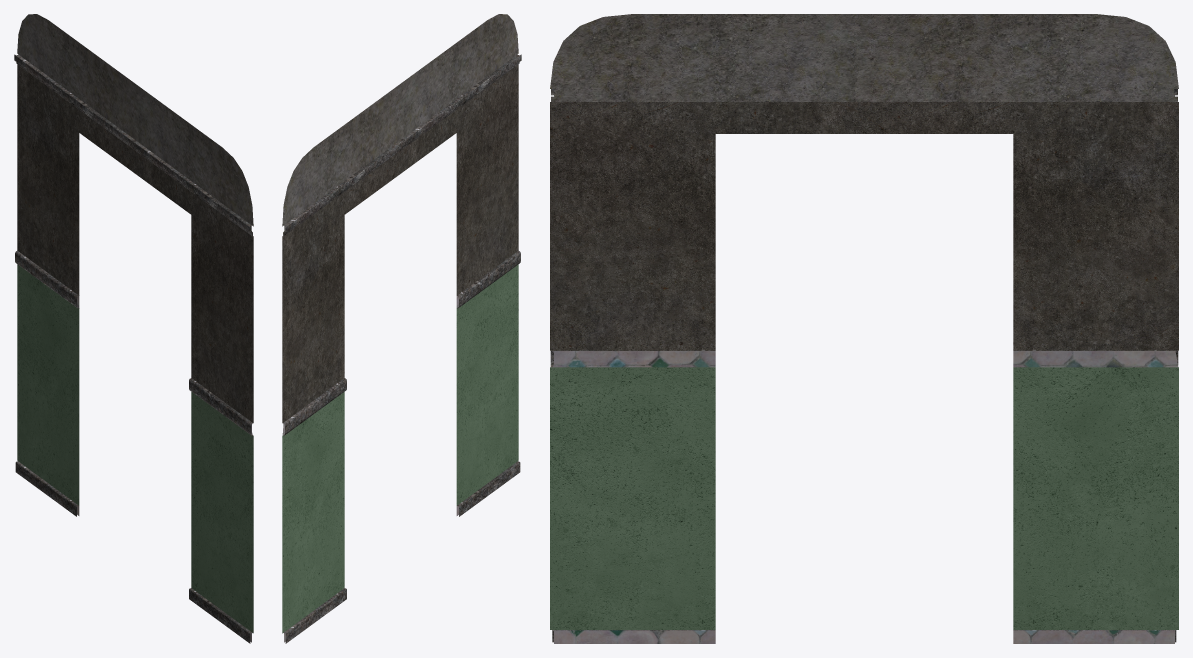
The model's file is CorridorBlockEntranceWall.FBX.
3 views of the same model, side by side, from view 1: azimuth 30°, elevation 25°; view 2: azimuth 150°, elevation 25°; view 3: azimuth 270°, elevation 25° (orthographic). The views are drawn at different scales.
Visible parts, largest first — view 1: Entrance_Wall; view 2: Entrance_Wall; view 3: Entrance_Wall.
Boxes of the visible parts, x1,y1,x2,y2 form: Entrance_Wall: [14, 14, 253, 643]; Entrance_Wall: [282, 14, 521, 643]; Entrance_Wall: [550, 14, 1178, 643].
Bounding box in the file's own units: 0.6185 × 82.67 × 74.8.
